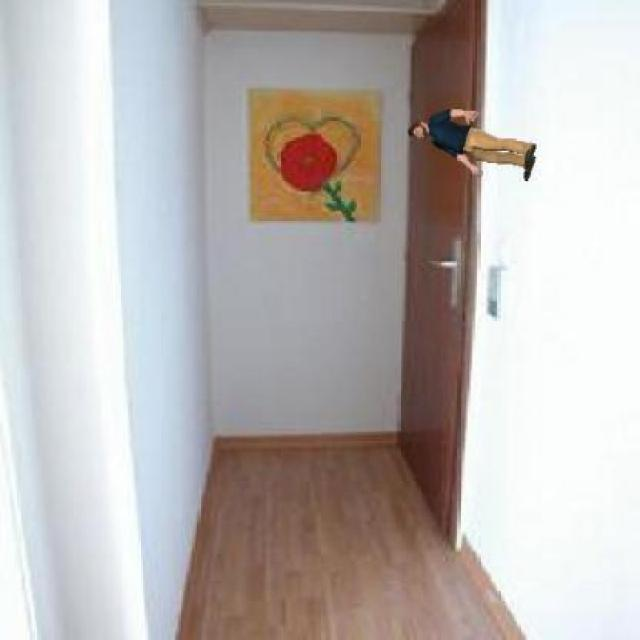Person: (404, 101, 541, 184)
